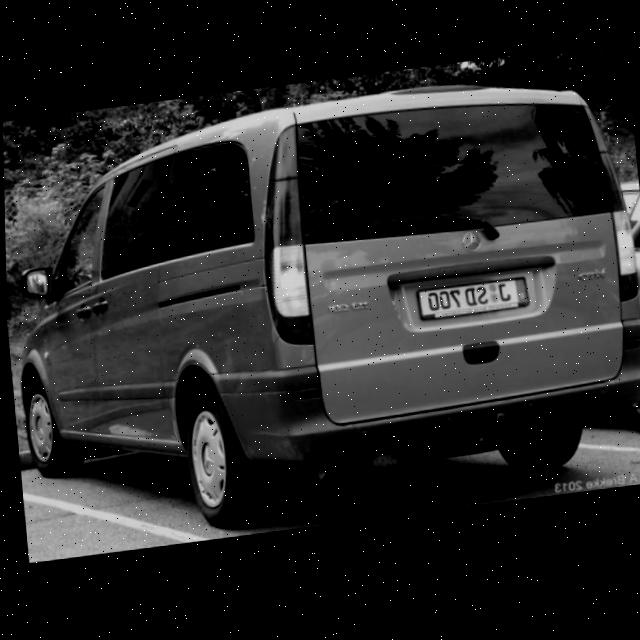license-plates: (417, 277, 530, 320)
